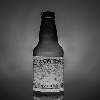beer: (33, 11, 67, 98)
